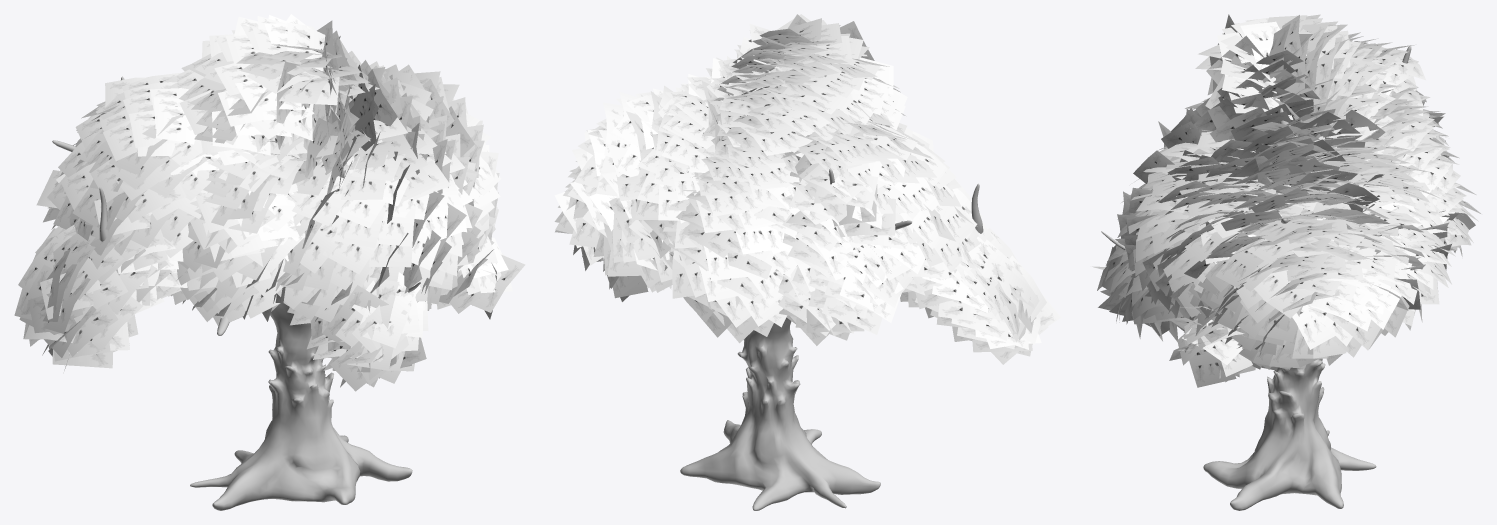
File: Farm_Tree.fbx
3 renders of one model, left to right at view 1: azimuth 30°, elevation 25°; view 2: azimuth 150°, elevation 25°; view 3: azimuth 270°, elevation 25°, orthographic. The views are drawn at different scales.
Parts seen in each view (by area): view 1: Farm_Tree_Leaves, Farm_Tree_Body_low; view 2: Farm_Tree_Leaves, Farm_Tree_Body_low; view 3: Farm_Tree_Leaves, Farm_Tree_Body_low.
Boxes of the visible parts, x1=… form: Farm_Tree_Leaves: x1=14, y1=14, x2=525, y2=391; Farm_Tree_Body_low: x1=52, y1=76, x2=420, y2=510; Farm_Tree_Leaves: x1=554, y1=14, x2=1061, y2=364; Farm_Tree_Body_low: x1=680, y1=168, x2=983, y2=510; Farm_Tree_Leaves: x1=1092, y1=14, x2=1480, y2=387; Farm_Tree_Body_low: x1=1101, y1=45, x2=1411, y2=510.
Size of the model in its own units: 1556 by 1492 by 1171.
Materials: 2 (1 with a texture image).
